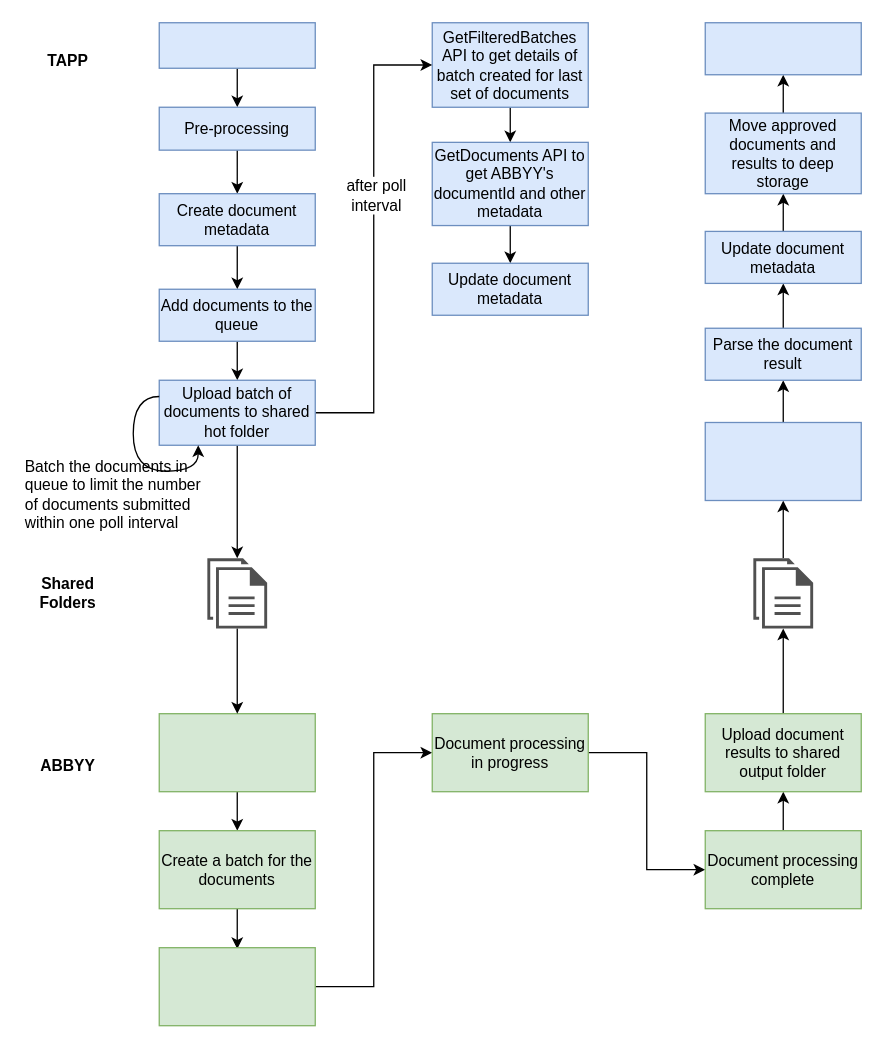
The diagram is 884 pixels wide and 1049 high, and some of its shapes have lost their labels. The shapes that lost their labels are listed below. From the top down, each one's box as (x1, y1, x2, y2) in pixels, then its label:
(158, 21, 315, 68): Add document
(704, 21, 861, 75): Delete runtime storage data
(704, 421, 861, 500): Poll output folder and read document results from output folder
(207, 558, 266, 628): Documents
(753, 558, 812, 628): Document Results
(158, 712, 315, 792): Poll hot folder at defined interval and read the newly added documents
(158, 946, 315, 1026): Submit batch for processing
